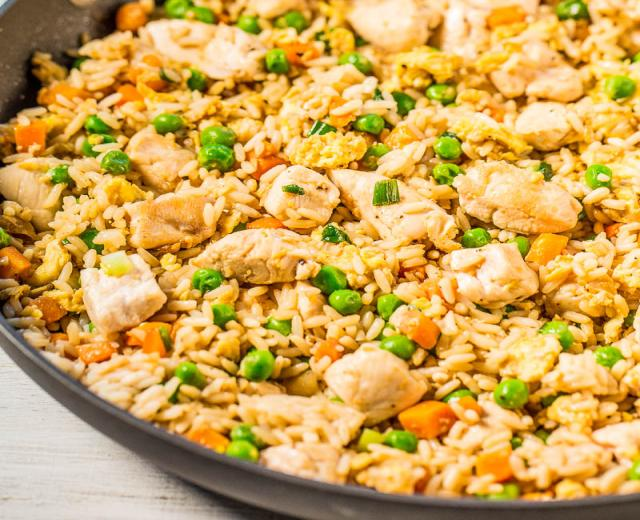fried rice: (3, 22, 624, 520), (0, 310, 232, 517), (0, 0, 102, 122)
